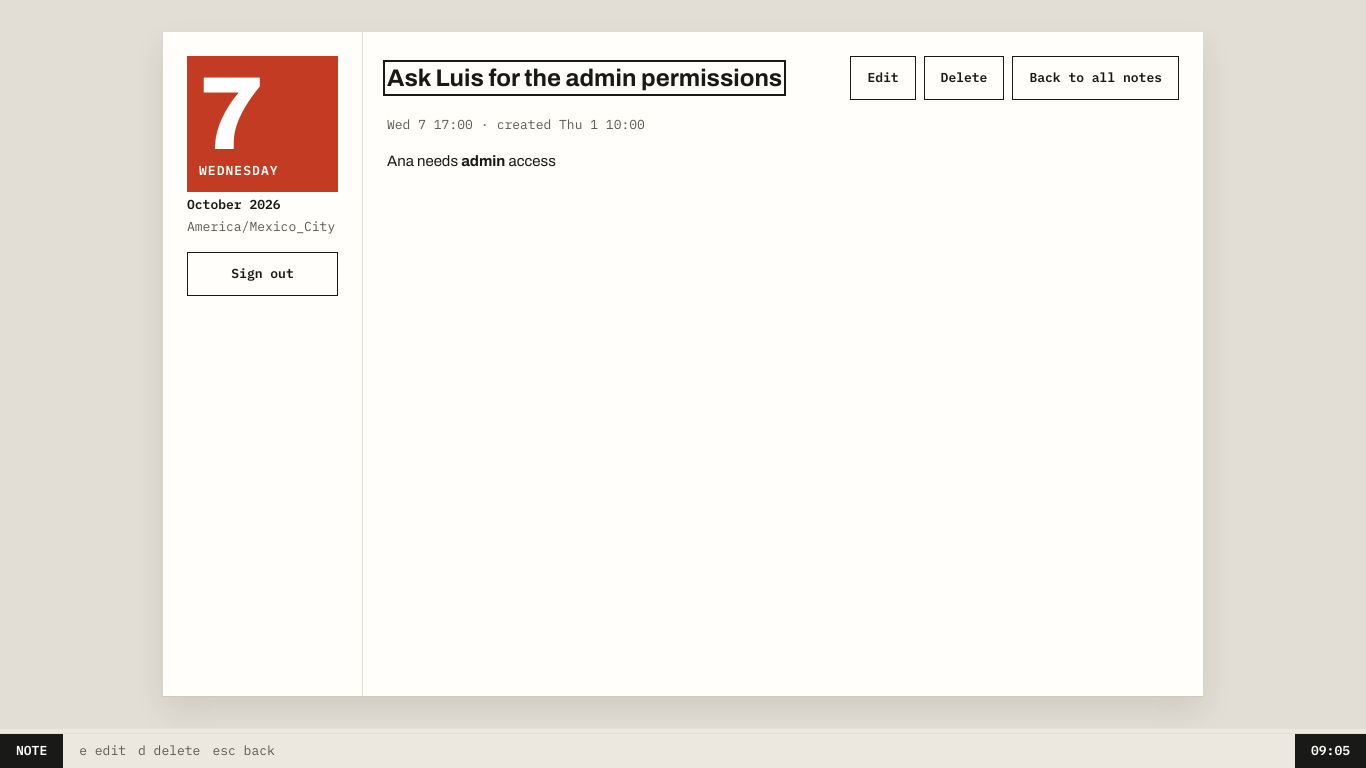
Test: the Delete button shows the same confirm (the only way on touch)
This screenshot has width=1366, height=768.
Click the button "Delete".
click(964, 78)  # box [924, 56, 1004, 100]
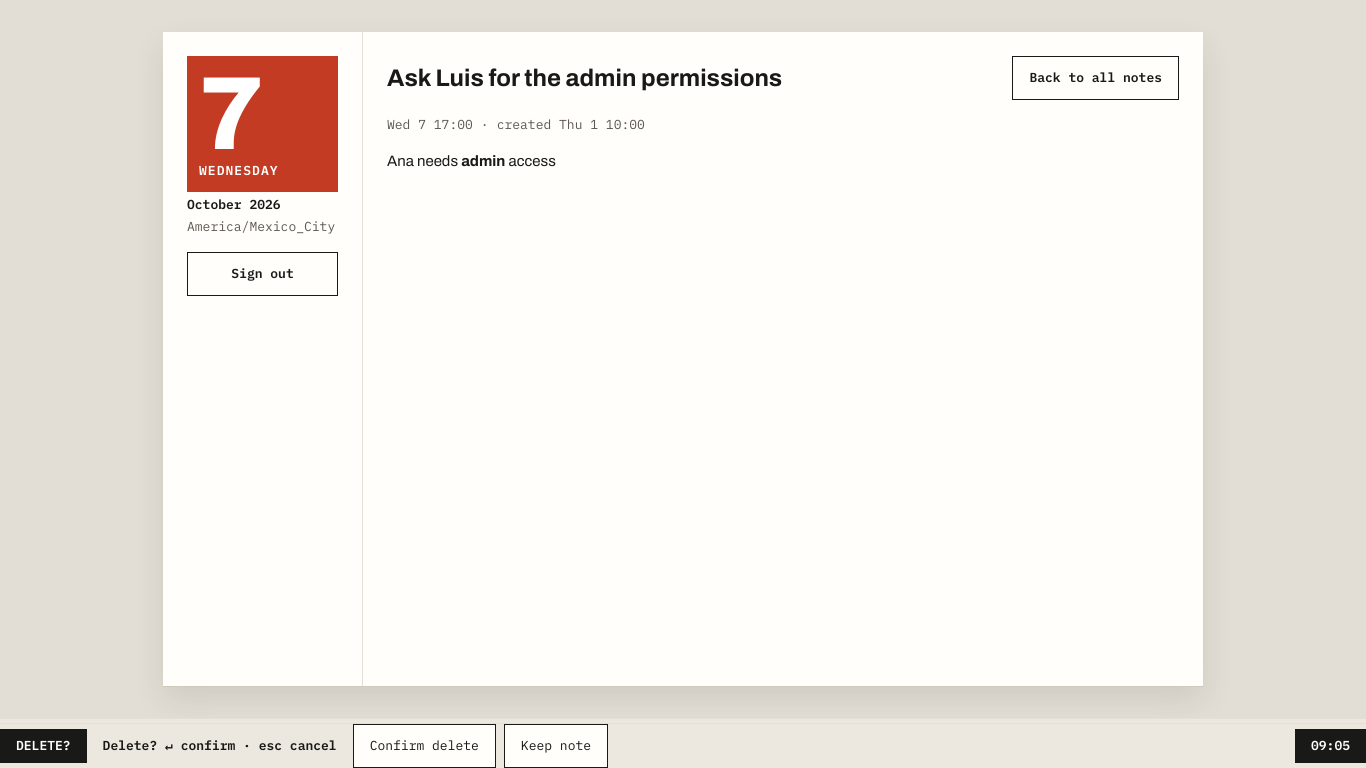
Expected: the footer shows "Delete? ↵ confirm · esc cancel", [103, 737, 337, 754]
